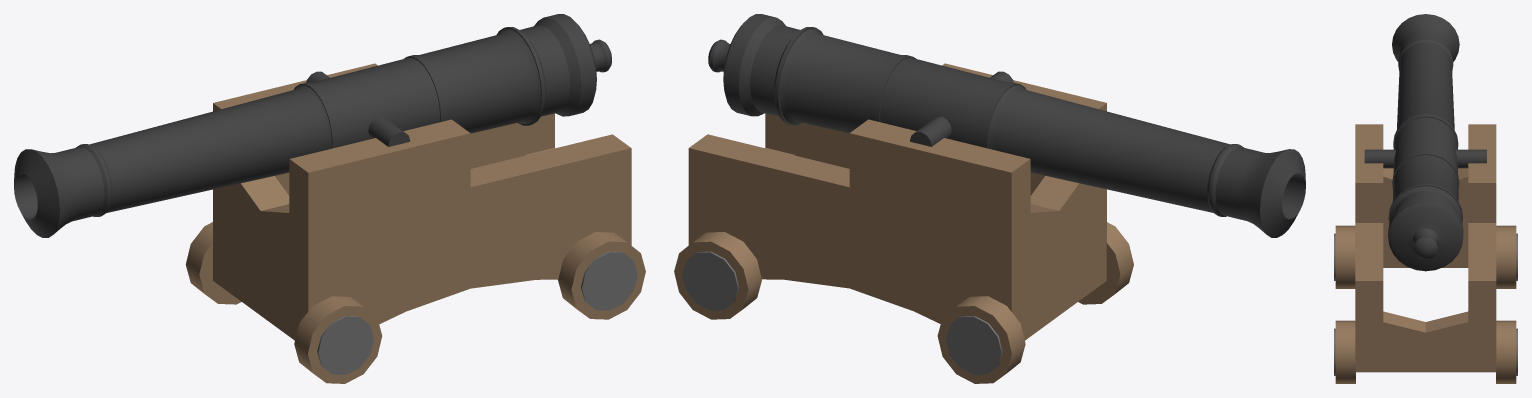
Rendered from NewCannon.fbx.
3 renders of one model, left to right at view 1: azimuth 30°, elevation 25°; view 2: azimuth 150°, elevation 25°; view 3: azimuth 270°, elevation 25°, orthographic. The views are drawn at different scales.
Visible parts, largest first — view 1: Cylinder.005, Cylinder; view 2: Cylinder.005, Cylinder; view 3: Cylinder.005, Cylinder.
Part boxes in pixels (left/top/right/bottom): Cylinder.005: left=185, top=63, right=645, bottom=383; Cylinder: left=14, top=14, right=611, bottom=237; Cylinder.005: left=674, top=63, right=1133, bottom=383; Cylinder: left=708, top=14, right=1305, bottom=237; Cylinder.005: left=1334, top=124, right=1517, bottom=383; Cylinder: left=1388, top=14, right=1463, bottom=271.
Size of the model in its own units: 205 by 84.65 by 75.7.
